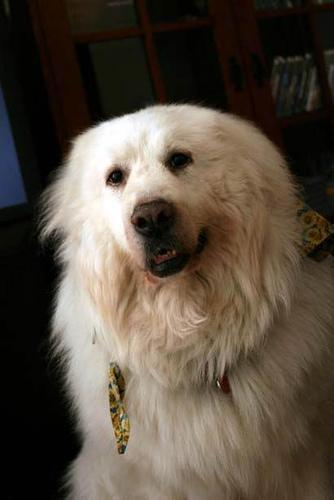Great_Pyrenees: (42, 103, 331, 498)
